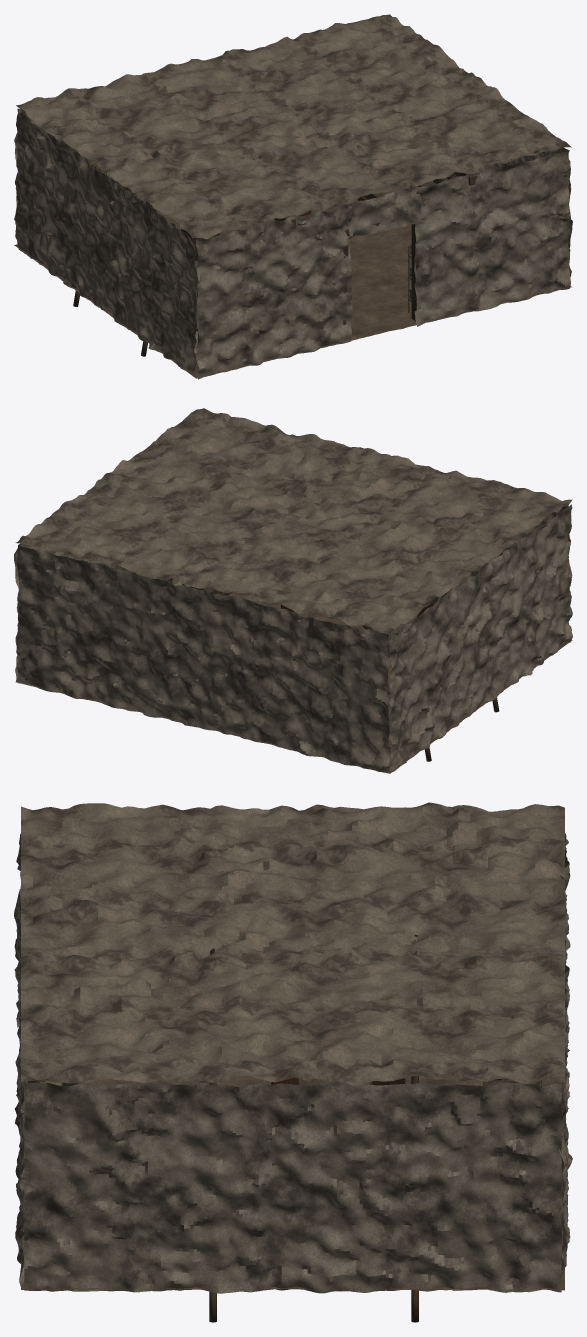
File: env_sanctuary_workshop.gltf
The picture shows the model from 3 angles, top to bottom: view 1: azimuth 30°, elevation 25°; view 2: azimuth 150°, elevation 25°; view 3: azimuth 270°, elevation 25°; orthographic projection. The views are drawn at different scales.
Visible parts, largest first — view 1: workshop_rock_mine_01, workshop_rock_mine_02, workshop_earth_packed_01, workshop_timber_mine_01; view 2: workshop_rock_mine_01, workshop_rock_mine_02, workshop_earth_packed_01; view 3: workshop_rock_mine_02, workshop_rock_mine_01, workshop_earth_packed_01, workshop_metal_dark_01.
Part boxes in pixels (x1,y1,x2,y2): workshop_rock_mine_01: [14, 47, 572, 379]; workshop_rock_mine_02: [16, 14, 571, 239]; workshop_earth_packed_01: [14, 185, 571, 378]; workshop_timber_mine_01: [72, 148, 508, 331]; workshop_rock_mine_01: [14, 434, 572, 773]; workshop_rock_mine_02: [15, 408, 572, 633]; workshop_earth_packed_01: [15, 592, 572, 773]; workshop_rock_mine_02: [21, 802, 564, 1085]; workshop_rock_mine_01: [14, 811, 572, 1293]; workshop_earth_packed_01: [21, 1075, 564, 1290]; workshop_metal_dark_01: [209, 934, 518, 1322].
Bounding box in the file's own units: 10.2 × 4.42 × 8.58.
Materials: 26 (22 with a texture image).
